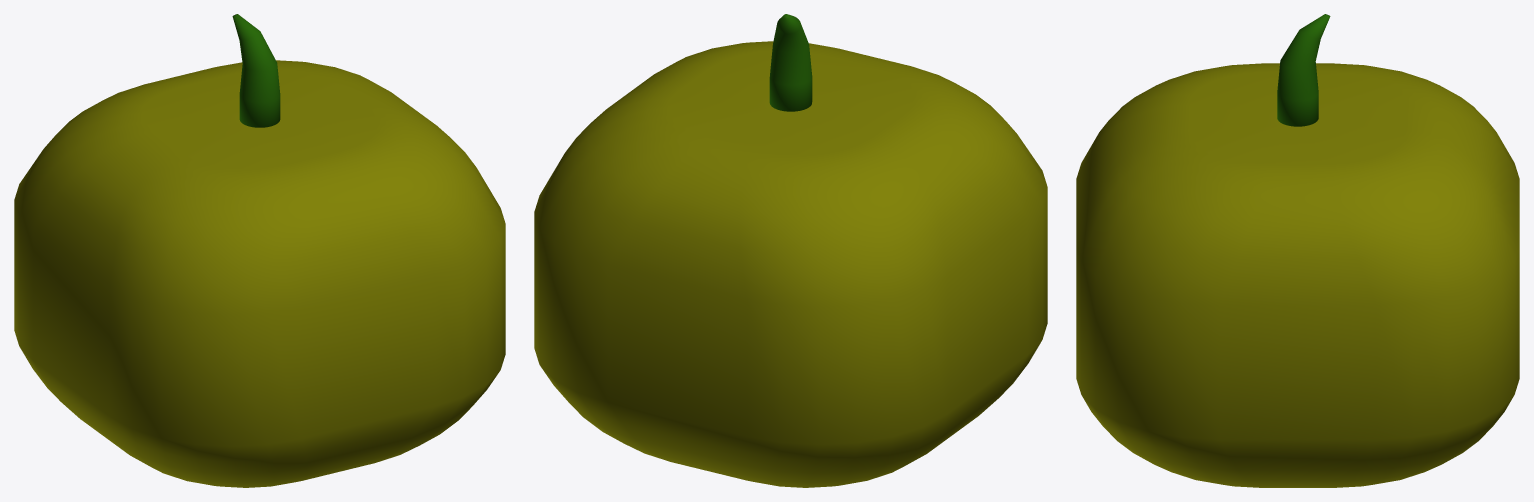
File: Tomate02.fbx
3 views of the same model, side by side, from view 1: azimuth 30°, elevation 25°; view 2: azimuth 150°, elevation 25°; view 3: azimuth 270°, elevation 25° (orthographic). The views are drawn at different scales.
Visible parts, largest first — view 1: Cube; view 2: Cube; view 3: Cube.
Boxes of the visible parts, bbox=[...] form: Cube: bbox=[14, 14, 505, 487]; Cube: bbox=[534, 14, 1047, 487]; Cube: bbox=[1076, 14, 1519, 487].
Bounding box in the file's own units: 250 × 261 × 250.
